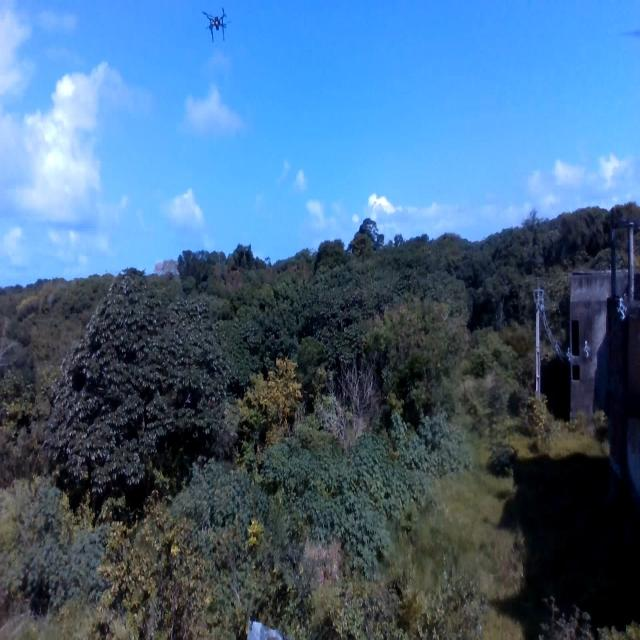-uav-: (193, 0, 235, 52)
